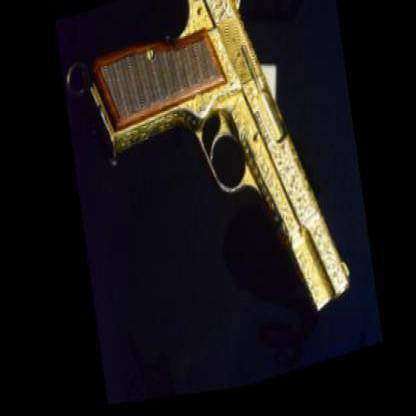pistol: (77, 0, 356, 372)
